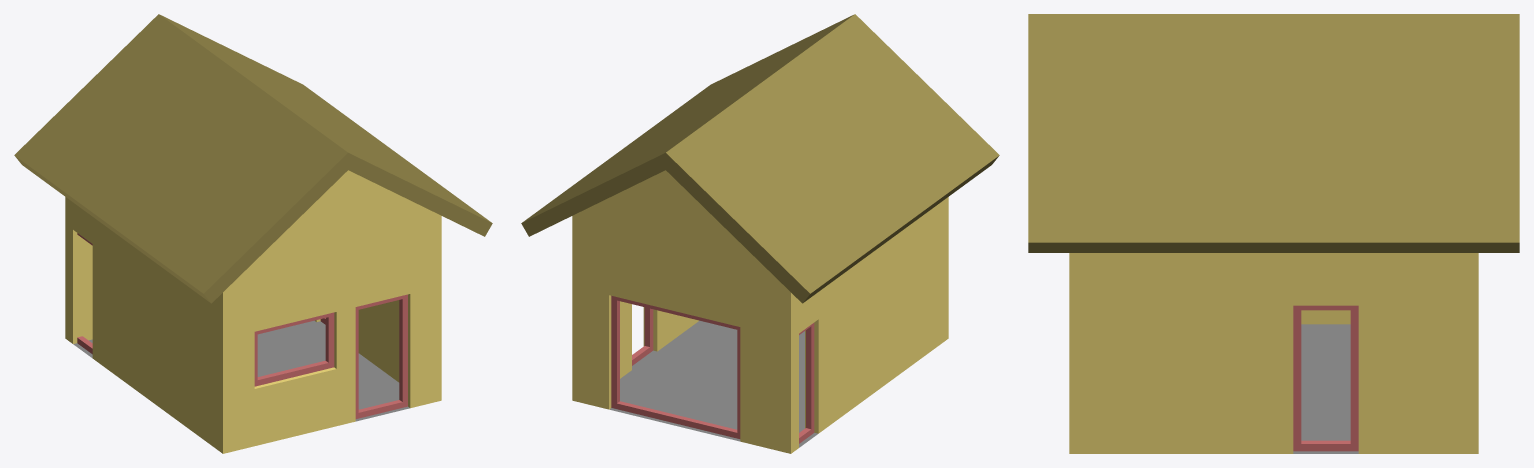
The model's file is result.glb.
3 renders of one model, left to right at view 1: azimuth 30°, elevation 25°; view 2: azimuth 150°, elevation 25°; view 3: azimuth 270°, elevation 25°, orthographic. The views are drawn at different scales.
Visible parts, largest first — view 1: c8d53389-1128-4edc-92a9-6673e62cb02b__undefined, 45ff94d0-2b8f-4885-b1c3-c48f2ad21a78__undefined (×2), 8cba068b-2872-4c52-818c-bbfe96fa1495__Plane_6, 84d81a7c-ab74-40e8-aa73-b87daf812910__Box, fc36e1f9-62ab-4f7a-af7c-877f35677922__Box_3; view 2: 45ff94d0-2b8f-4885-b1c3-c48f2ad21a78__undefined (×2), c8d53389-1128-4edc-92a9-6673e62cb02b__undefined, 8cba068b-2872-4c52-818c-bbfe96fa1495__Plane_6, 8f235e83-7a32-4a7b-9720-4a2c1ddb51d8__Box_9, ea6803ef-5953-479c-8e94-1d8c1aba20c7__Box_12, bdd21e81-1da9-41de-928a-ddd3b3e9de50__Box_15; view 3: 45ff94d0-2b8f-4885-b1c3-c48f2ad21a78__undefined, c8d53389-1128-4edc-92a9-6673e62cb02b__undefined, 8cba068b-2872-4c52-818c-bbfe96fa1495__Plane_6, bdd21e81-1da9-41de-928a-ddd3b3e9de50__Box_15.
Boxes of the visible parts, x1,y1,x2,y2 form: c8d53389-1128-4edc-92a9-6673e62cb02b__undefined: (65, 170, 441, 453); 45ff94d0-2b8f-4885-b1c3-c48f2ad21a78__undefined (×2): (14, 14, 492, 303); 8cba068b-2872-4c52-818c-bbfe96fa1495__Plane_6: (73, 320, 409, 421); 84d81a7c-ab74-40e8-aa73-b87daf812910__Box: (355, 294, 407, 418); fc36e1f9-62ab-4f7a-af7c-877f35677922__Box_3: (254, 312, 334, 386); 45ff94d0-2b8f-4885-b1c3-c48f2ad21a78__undefined (×2): (521, 14, 999, 303); c8d53389-1128-4edc-92a9-6673e62cb02b__undefined: (572, 170, 948, 453); 8cba068b-2872-4c52-818c-bbfe96fa1495__Plane_6: (609, 320, 817, 447); 8f235e83-7a32-4a7b-9720-4a2c1ddb51d8__Box_9: (611, 295, 740, 438); ea6803ef-5953-479c-8e94-1d8c1aba20c7__Box_12: (799, 323, 814, 443); bdd21e81-1da9-41de-928a-ddd3b3e9de50__Box_15: (632, 307, 653, 365); 45ff94d0-2b8f-4885-b1c3-c48f2ad21a78__undefined: (1028, 14, 1519, 252); c8d53389-1128-4edc-92a9-6673e62cb02b__undefined: (1069, 253, 1478, 453); 8cba068b-2872-4c52-818c-bbfe96fa1495__Plane_6: (1293, 324, 1358, 453); bdd21e81-1da9-41de-928a-ddd3b3e9de50__Box_15: (1293, 305, 1358, 451).
Size of the model in its own units: 529 by 500 by 600.
